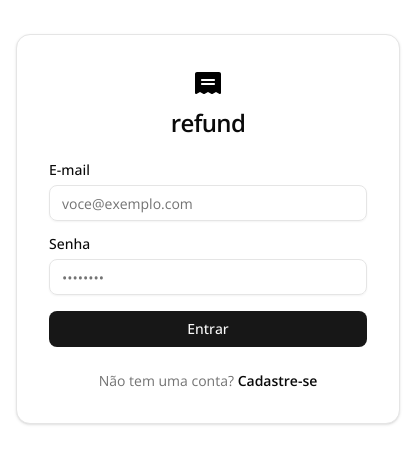
Test case: PageLogin (integration) › shows the API error message and stays on the page on 401
The image size is (417, 460).
In the field labelled "E-mail": (208, 203) [49,185,367,221], type "ana@exemplo.com"
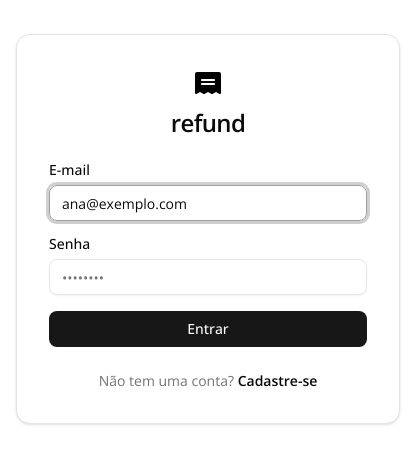
In the password field labelled "Senha": (208, 277) [49,259,367,295], type "wrong-pass"
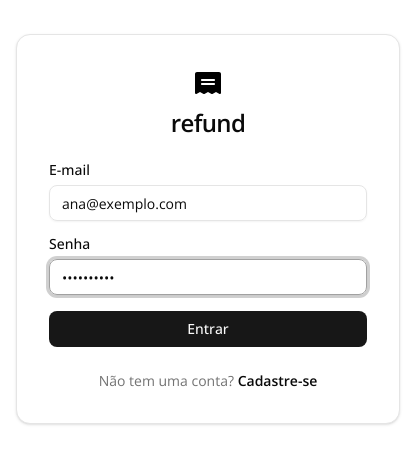
Click the button "Entrar": (208, 329) [49,311,367,347]
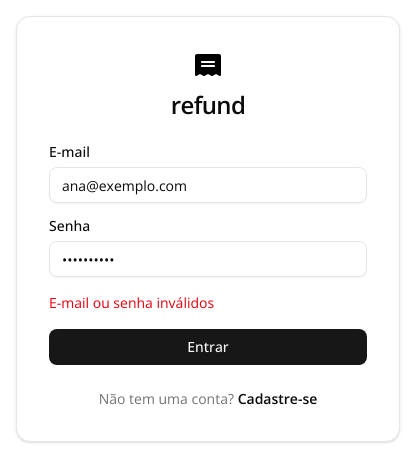
Expected: the text "E-mail ou senha inválidos" is shown, [49,293,214,312]
